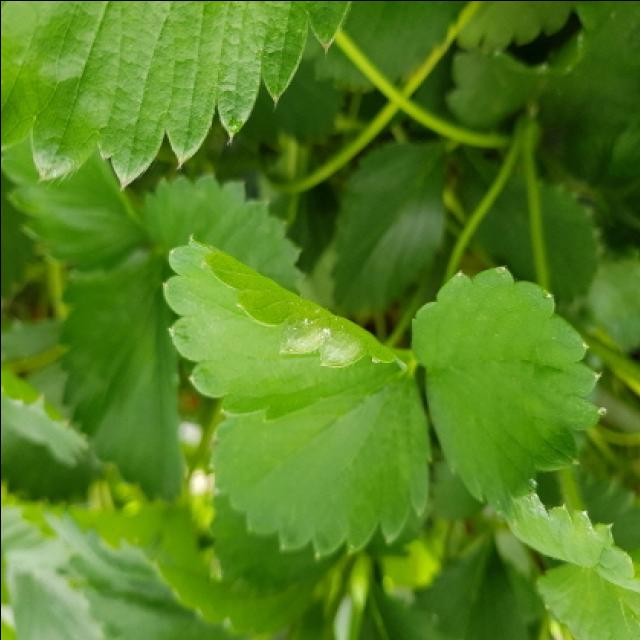Powdery Mildew Leaf: (161, 230, 410, 423)
